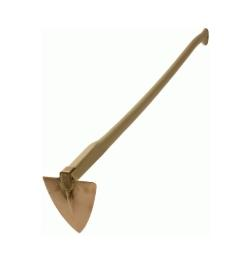HOUE: (37, 14, 231, 238)
